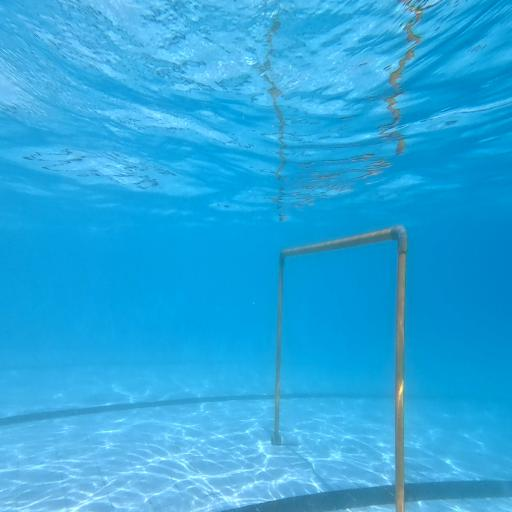gate: (271, 226, 407, 512)
